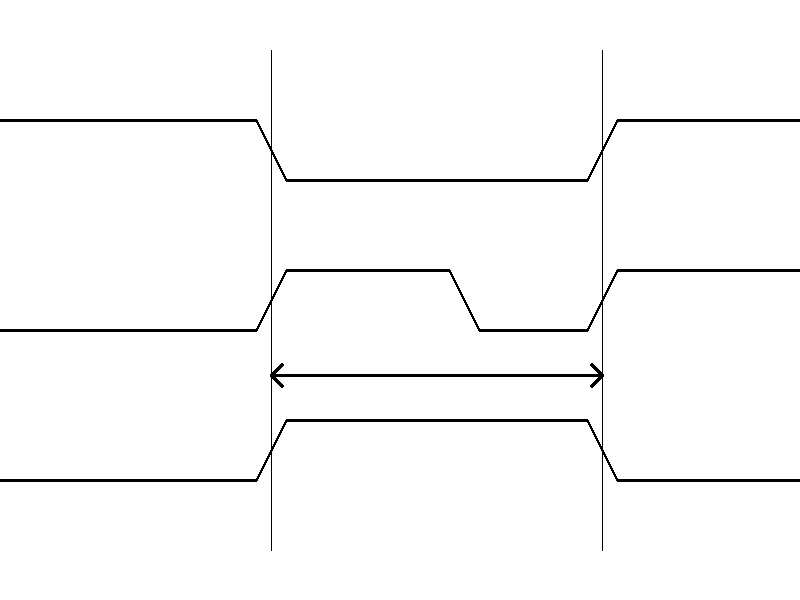double_arrow: (271, 360, 602, 390)
